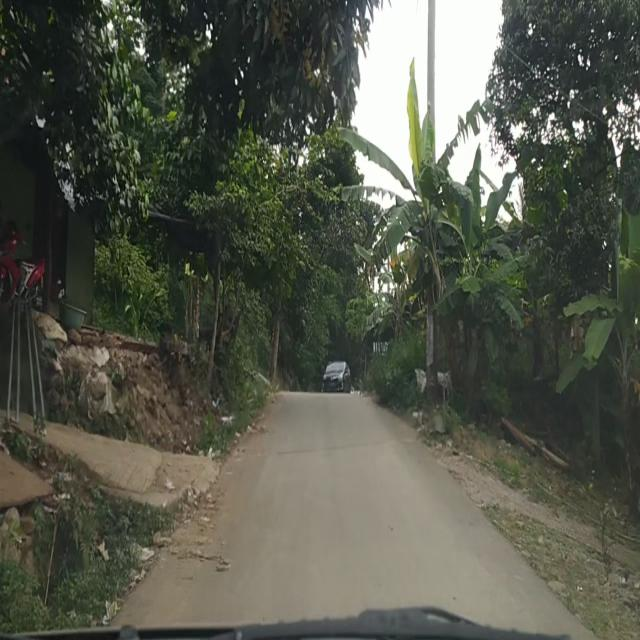Sewer Cover: (274, 441, 382, 460)
